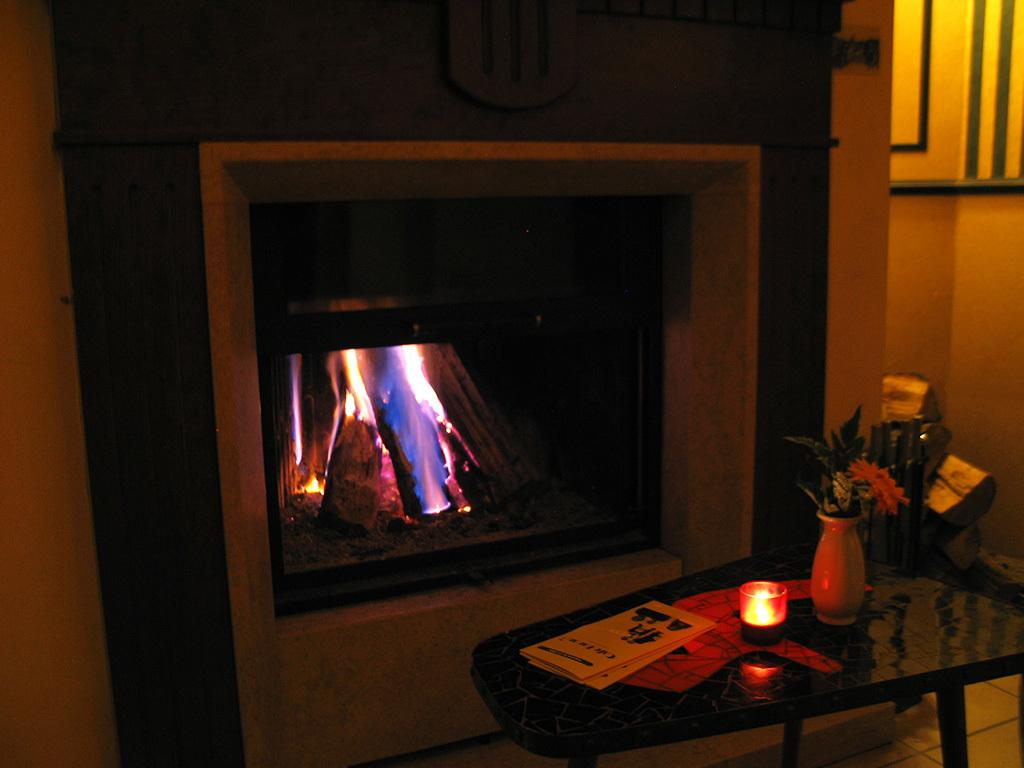Fire: (285, 350, 475, 522), (740, 581, 786, 627)
